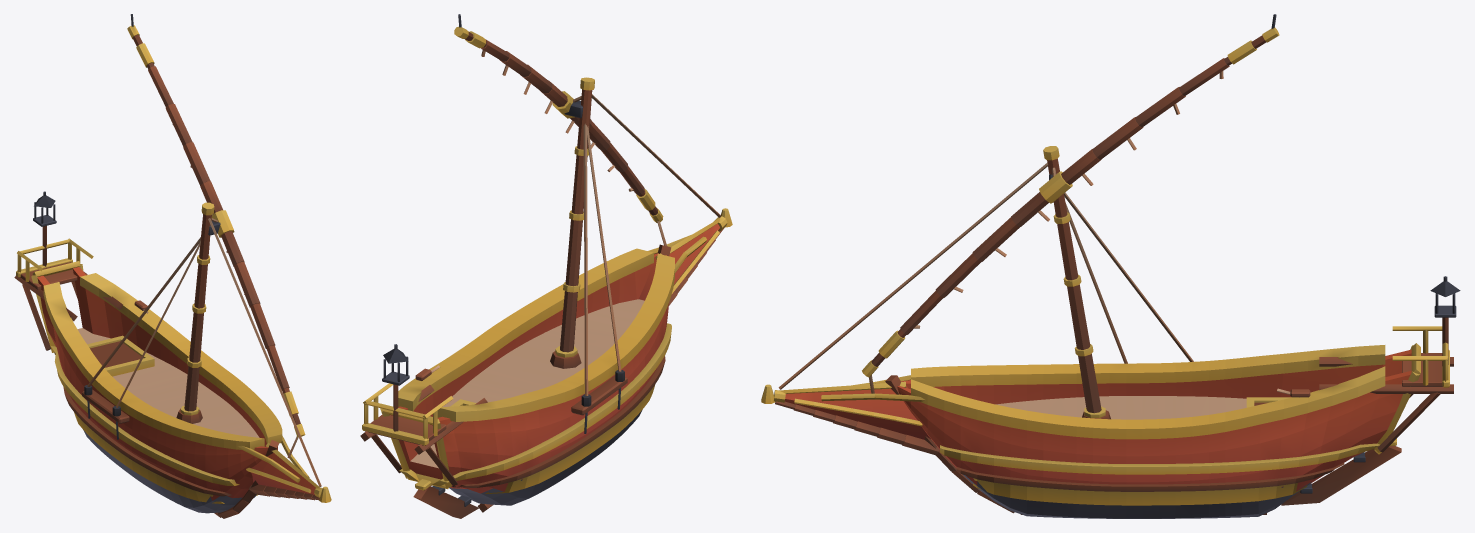
The model's file is gambler-up.glb.
The picture shows the model from 3 angles, left to right: view 1: azimuth 30°, elevation 25°; view 2: azimuth 150°, elevation 25°; view 3: azimuth 270°, elevation 25°; orthographic projection. The views are drawn at different scales.
Visible parts, largest first — view 1: gambler; view 2: gambler; view 3: gambler.
Boxes of the visible parts, x1,y1,x2,y2 form: gambler: [14, 14, 331, 518]; gambler: [360, 14, 732, 518]; gambler: [761, 14, 1460, 518].
Bounding box in the file's own units: 2.18 × 7.36 × 9.14.
